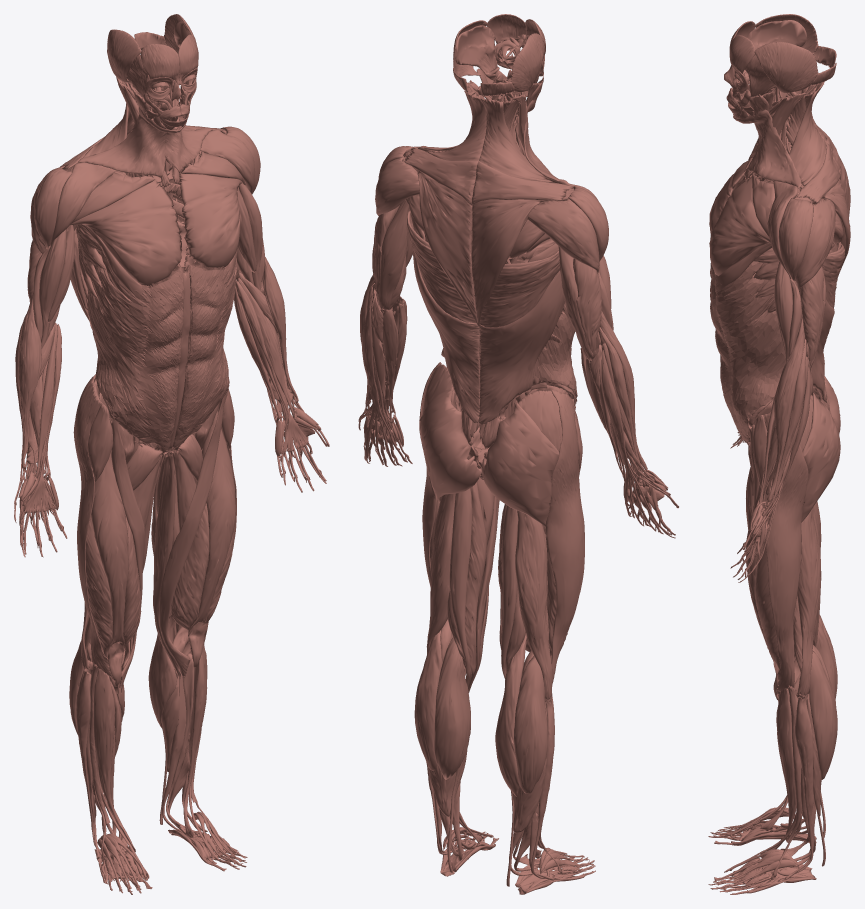
Rendered from muscles.glb.
The picture shows the model from 3 angles, left to right: view 1: azimuth 30°, elevation 25°; view 2: azimuth 150°, elevation 25°; view 3: azimuth 270°, elevation 25°; orthographic projection.
Visible parts, largest first — view 1: muscle__other-muscles, muscle__external-oblique, muscle__quadriceps, muscle__pectoralis-major, muscle__forearm-flexors, muscle__adductors, muscle__biceps-brachii, muscle__tibialis-anterior, muscle__deltoid-anterior, muscle__brachioradialis, muscle__gastrocnemius, muscle__fibularis (+10 smaller); view 2: muscle__other-muscles, muscle__latissimus-dorsi, muscle__hamstrings, muscle__gastrocnemius, muscle__gluteus-maximus, muscle__trapezius-upper, muscle__forearm-extensors, muscle__triceps-brachii, muscle__deltoid-posterior, muscle__trapezius-mid, muscle__trapezius-lower, muscle__forearm-flexors (+10 smaller); view 3: muscle__other-muscles, muscle__external-oblique, muscle__pectoralis-major, muscle__hamstrings, muscle__gastrocnemius, muscle__gluteus-maximus, muscle__forearm-extensors, muscle__quadriceps, muscle__fibularis, muscle__brachioradialis, muscle__deltoid-lateral, muscle__deltoid-posterior (+13 smaller).
Part boxes in pixels (left/top/right/bottom): muscle__other-muscles: left=18, top=14, right=323, bottom=894; muscle__external-oblique: left=87, top=251, right=236, bottom=443; muscle__quadriceps: left=85, top=410, right=235, bottom=686; muscle__pectoralis-major: left=70, top=151, right=245, bottom=300; muscle__forearm-flexors: left=19, top=272, right=327, bottom=557; muscle__adductors: left=121, top=434, right=202, bottom=692; muscle__biceps-brachii: left=39, top=183, right=262, bottom=347; muscle__tibialis-anterior: left=93, top=645, right=207, bottom=852; muscle__deltoid-anterior: left=50, top=129, right=254, bottom=246; muscle__brachioradialis: left=19, top=257, right=298, bottom=470; muscle__gastrocnemius: left=69, top=615, right=176, bottom=735; muscle__fibularis: left=76, top=646, right=208, bottom=860; muscle__other-muscles: left=363, top=14, right=672, bottom=894; muscle__latissimus-dorsi: left=407, top=211, right=564, bottom=424; muscle__hamstrings: left=426, top=481, right=552, bottom=699; muscle__gastrocnemius: left=414, top=630, right=547, bottom=796; muscle__gluteus-maximus: left=419, top=387, right=559, bottom=527; muscle__trapezius-upper: left=417, top=170, right=548, bottom=327; muscle__forearm-extensors: left=358, top=278, right=678, bottom=538; muscle__triceps-brachii: left=372, top=200, right=601, bottom=361; muscle__deltoid-posterior: left=375, top=157, right=599, bottom=273; muscle__trapezius-mid: left=404, top=147, right=573, bottom=205; muscle__trapezius-lower: left=426, top=93, right=552, bottom=182; muscle__forearm-flexors: left=363, top=296, right=675, bottom=535; muscle__other-muscles: left=708, top=14, right=836, bottom=894; muscle__external-oblique: left=710, top=261, right=785, bottom=441; muscle__pectoralis-major: left=709, top=161, right=774, bottom=291; muscle__hamstrings: left=793, top=501, right=821, bottom=697; muscle__gastrocnemius: left=809, top=614, right=837, bottom=779; muscle__gluteus-maximus: left=801, top=375, right=840, bottom=522; muscle__forearm-extensors: left=738, top=339, right=812, bottom=582; muscle__quadriceps: left=746, top=467, right=794, bottom=700; muscle__fibularis: left=768, top=693, right=815, bottom=879; muscle__brachioradialis: left=767, top=317, right=804, bottom=503; muscle__deltoid-lateral: left=778, top=198, right=813, bottom=281; muscle__deltoid-posterior: left=795, top=127, right=835, bottom=290.
Bounding box in the file's own units: 0.6145 × 1.56 × 0.2407.
